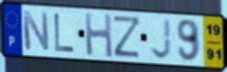9: (176, 18, 203, 64)
H: (83, 11, 115, 60)
J: (149, 17, 173, 61)
L: (53, 12, 76, 54)
N: (20, 9, 51, 53)
Z: (112, 14, 143, 60)
